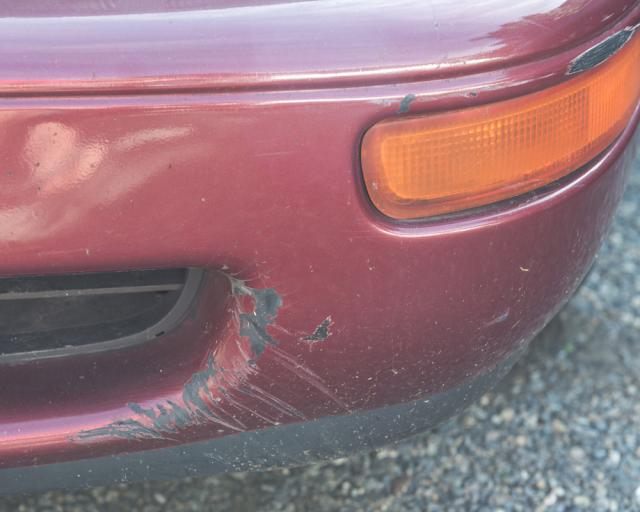scratch: (50, 263, 346, 449), (372, 19, 640, 114)
